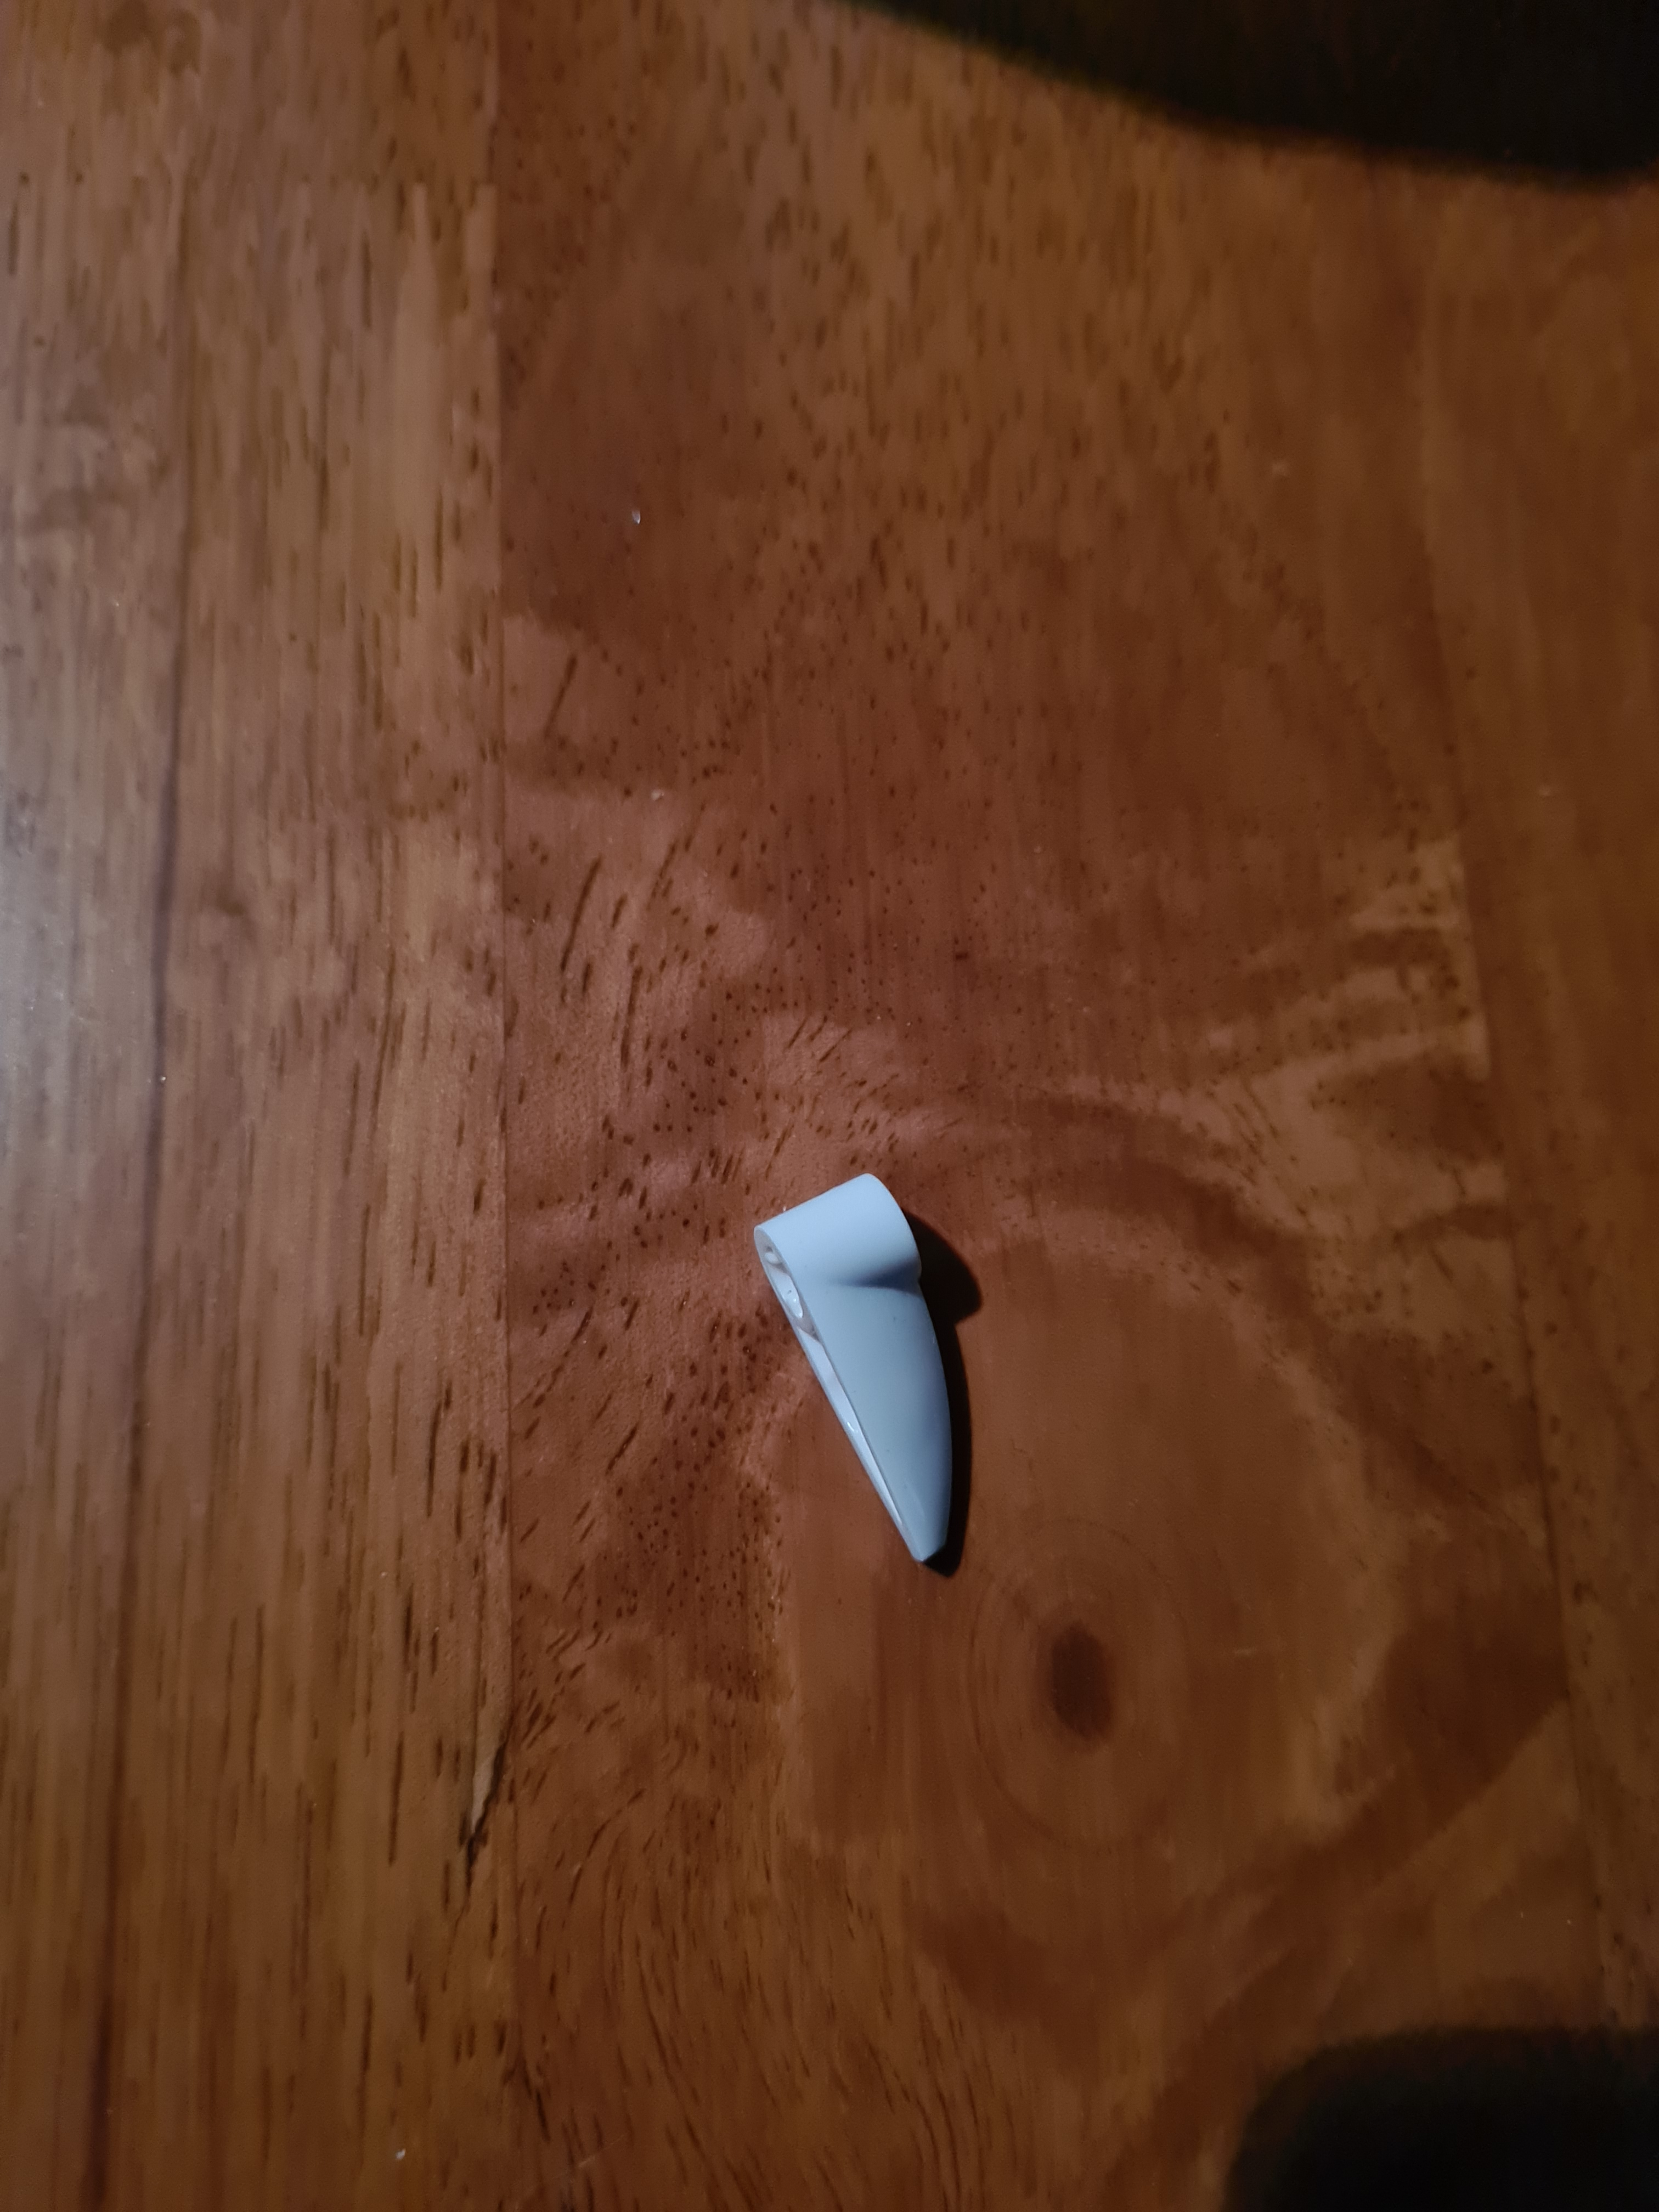Kappe: (734, 1137, 1004, 1616)
